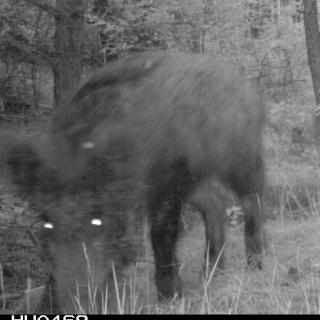Pig: (18, 29, 279, 301)
